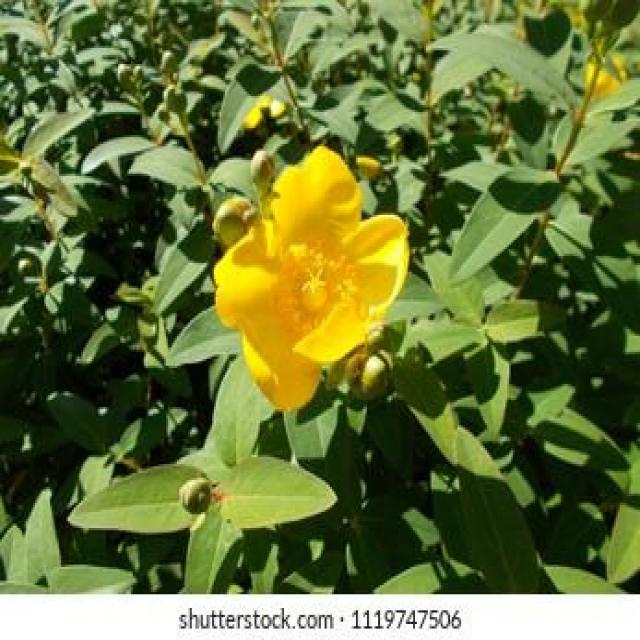organic waste: (214, 155, 404, 400)
